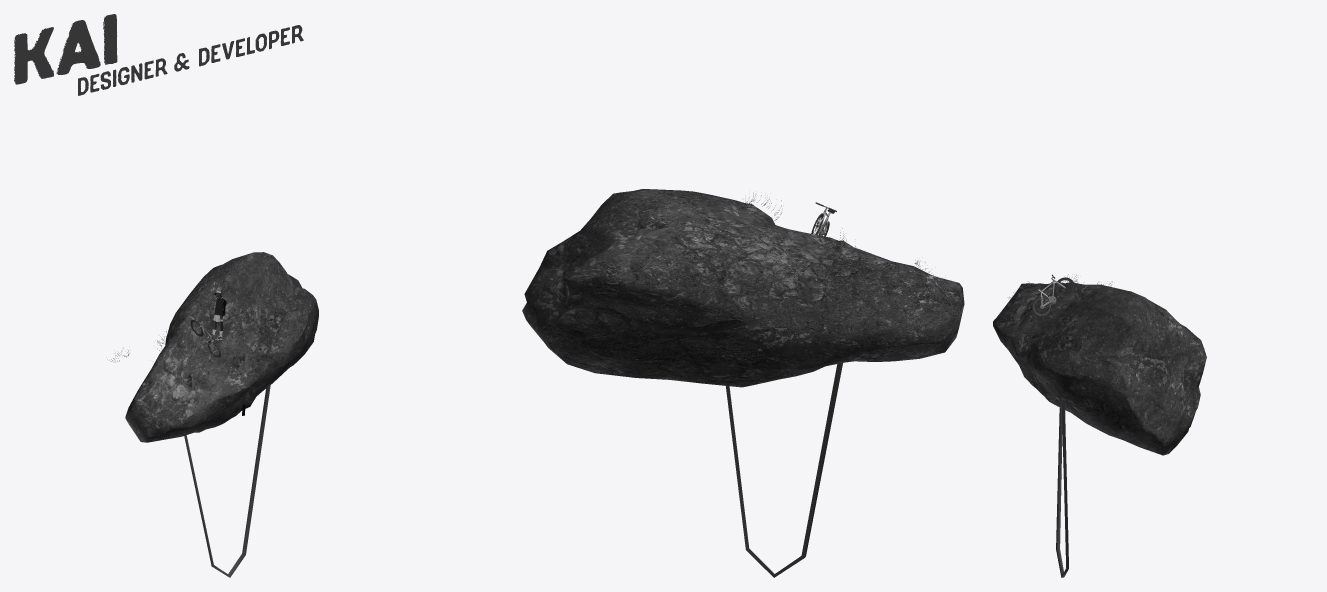
The model's file is cliff.glb.
3 views of the same model, side by side, from view 1: azimuth 30°, elevation 25°; view 2: azimuth 150°, elevation 25°; view 3: azimuth 270°, elevation 25° (orthographic). The views are drawn at different scales.
Visible parts, largest first — view 1: Rock, object 266, K Block, A Block, I Block; view 2: Rock, object 266; view 3: Rock, object 266.
Boxes of the visible parts, x1,y1,x2,y2 form: Rock: [125, 252, 318, 442]; object 266: [184, 383, 270, 577]; K Block: [15, 27, 53, 84]; A Block: [57, 20, 100, 74]; I Block: [104, 14, 117, 64]; Rock: [522, 189, 964, 387]; object 266: [726, 363, 842, 577]; Rock: [993, 282, 1206, 455]; object 266: [1056, 402, 1068, 577].
Bounding box in the file's own units: 5.05 × 7.64 × 4.3.
15 materials, 2 textured.
